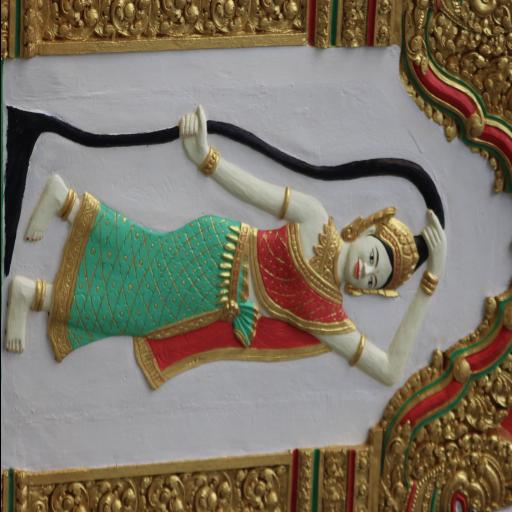hoa: (354, 476, 374, 502), (355, 448, 372, 474), (376, 19, 390, 42), (377, 0, 393, 15), (350, 504, 374, 512)
la: (235, 470, 288, 512), (182, 470, 234, 512), (250, 0, 303, 38), (58, 0, 100, 46), (320, 450, 348, 512), (108, 0, 152, 39), (141, 475, 185, 512), (158, 0, 208, 29), (94, 484, 144, 512), (208, 0, 248, 34), (342, 0, 367, 50), (295, 450, 313, 512), (53, 481, 87, 512), (313, 0, 330, 50)
ran: (402, 466, 500, 512), (441, 0, 512, 43)
than: (2, 110, 444, 402)
